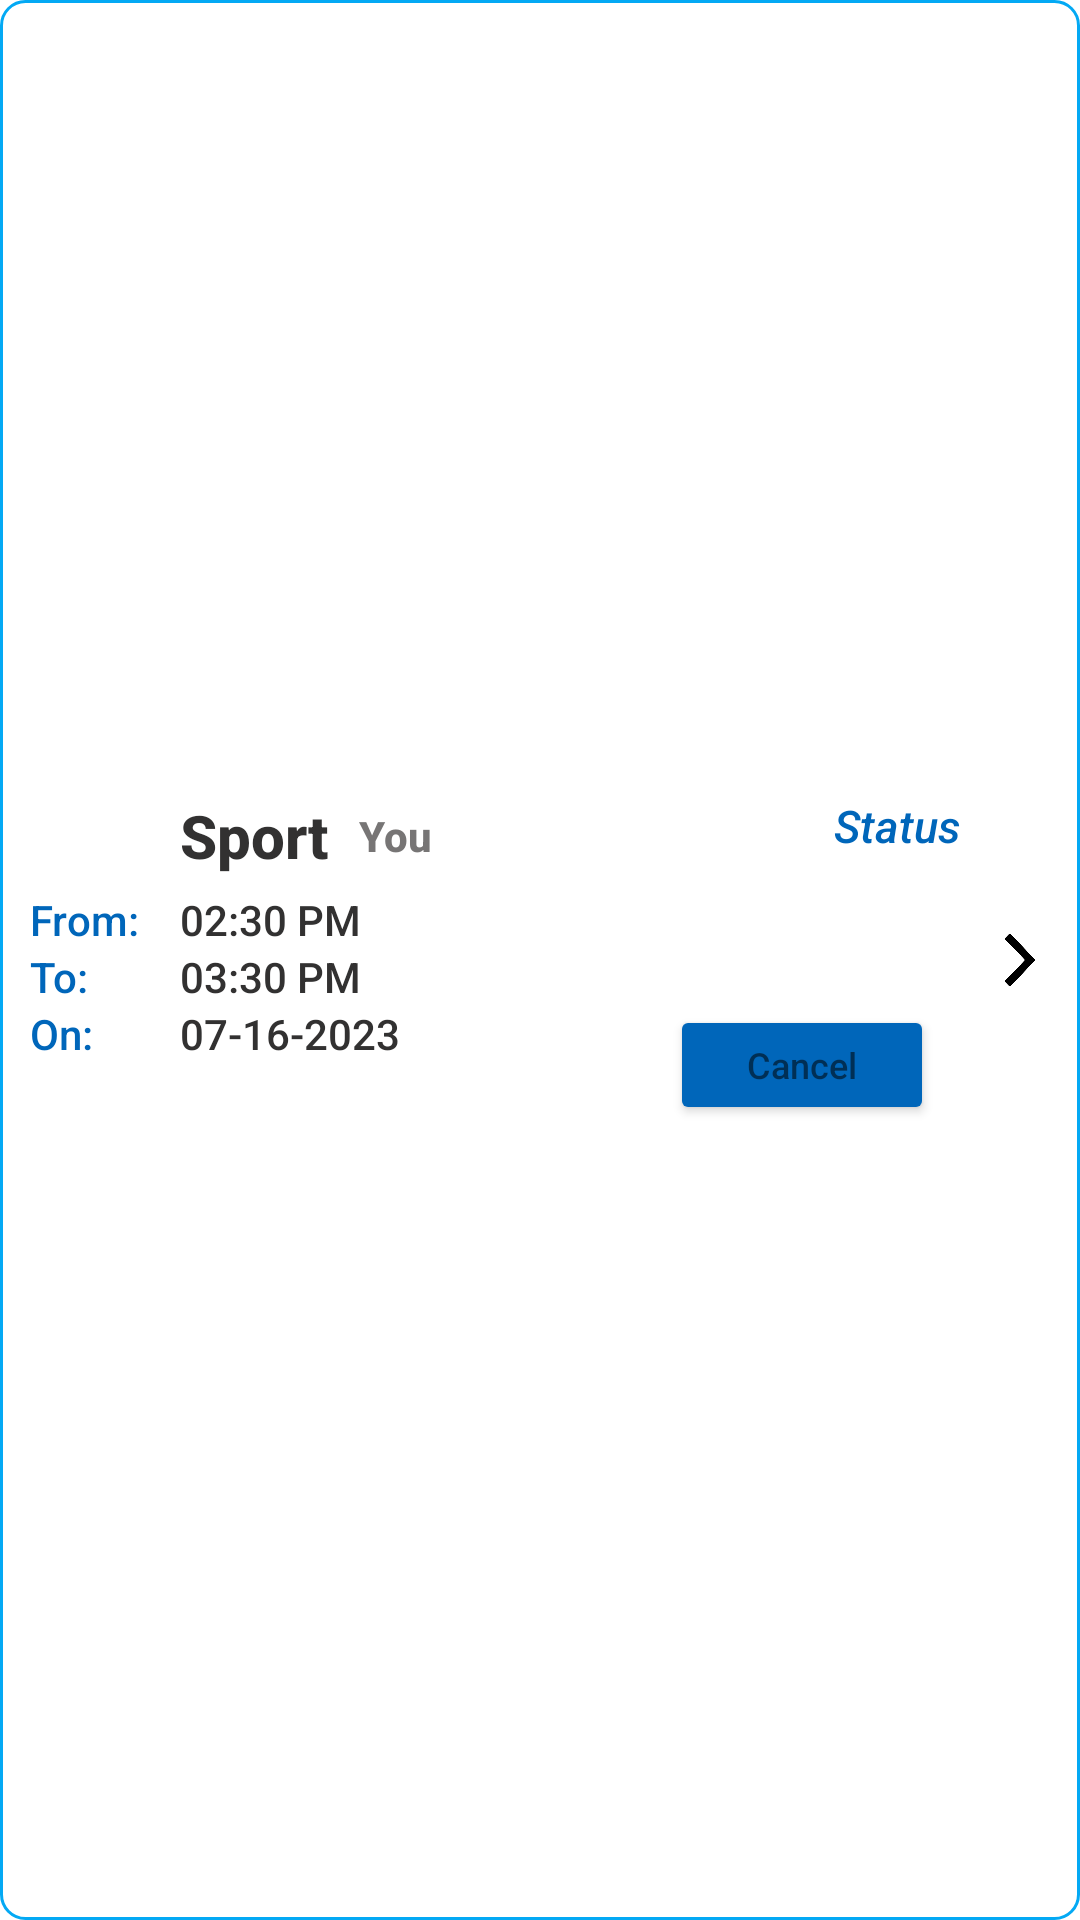

Where icons sit on this 1080w x 1920h app screen, as (x1=x1, y1=y1, x2=x2, y2=y2):
arrow: (x1=1005, y1=934, x2=1035, y2=986)
